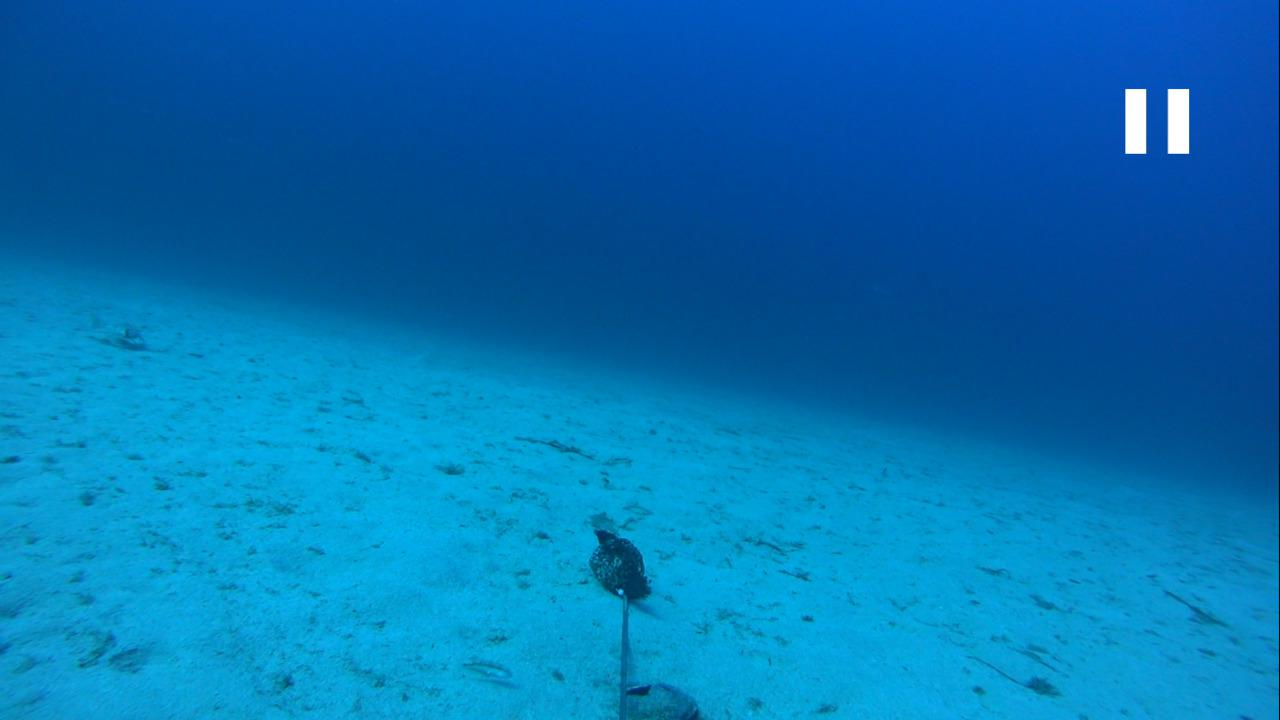dactylopterus: (57, 297, 142, 355)
